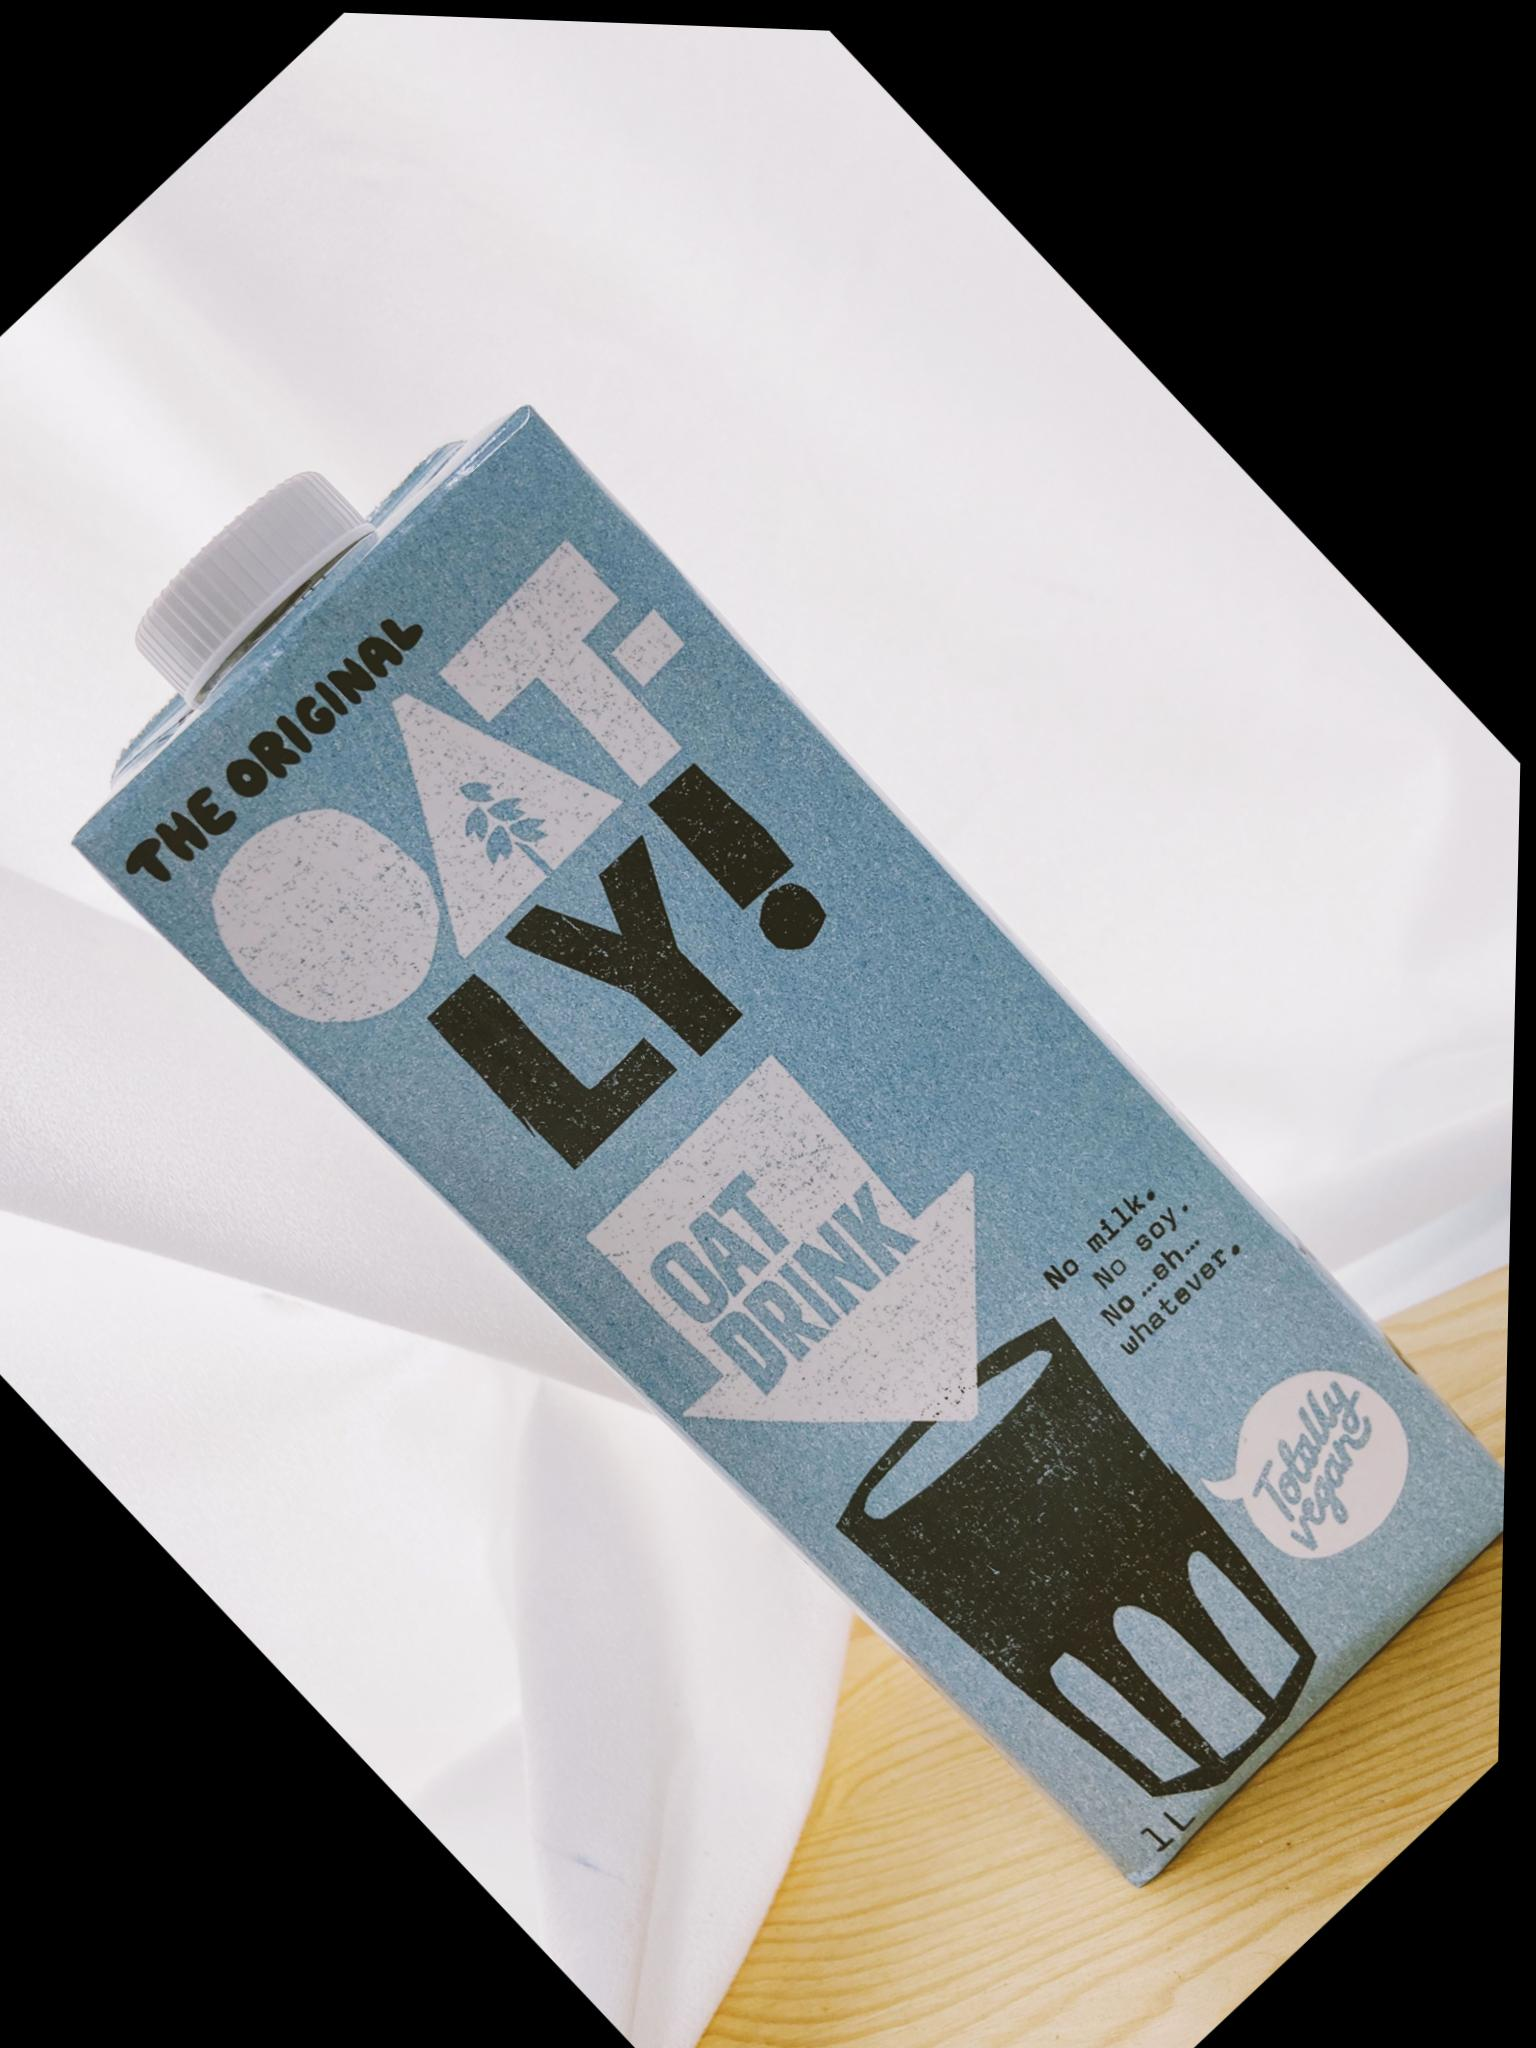cardboard: (0, 411, 1509, 2046)
